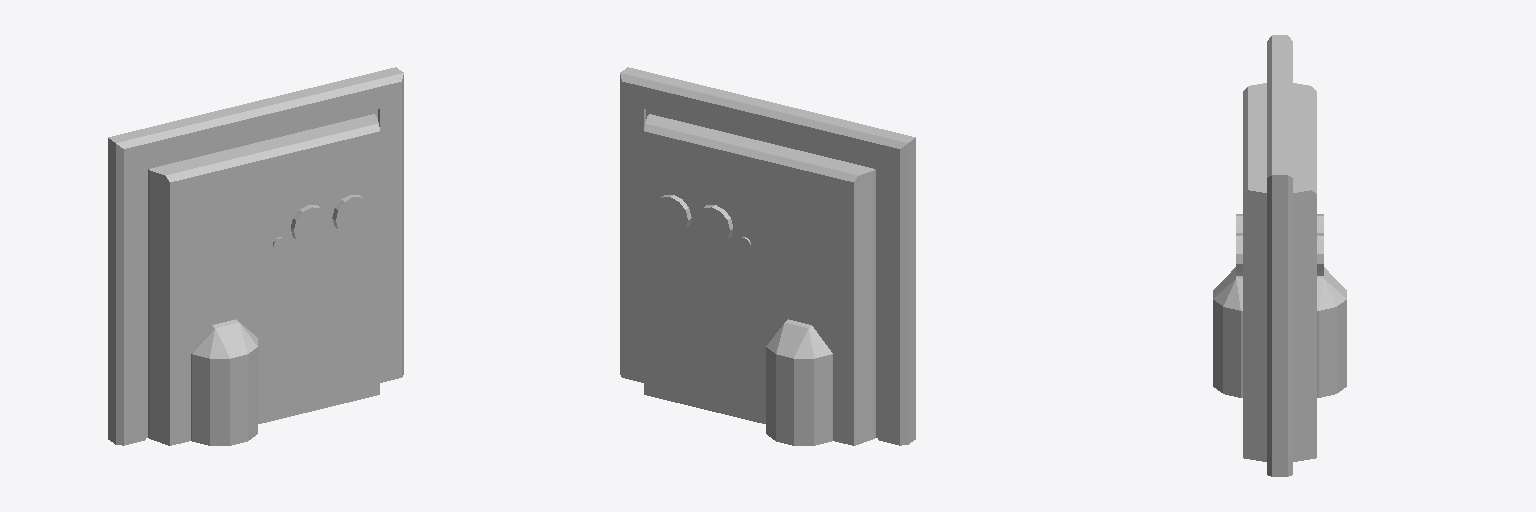
The model's file is Wall_Blue_Greeblies.obj.
3 views of the same model, side by side, from view 1: azimuth 30°, elevation 25°; view 2: azimuth 150°, elevation 25°; view 3: azimuth 270°, elevation 25° (orthographic).
Parts seen in each view (by area): view 1: Wall_Blue_Greeblies; view 2: Wall_Blue_Greeblies; view 3: Wall_Blue_Greeblies.
Boxes of the visible parts, x1,y1,x2,y2 form: Wall_Blue_Greeblies: [108, 67, 403, 445]; Wall_Blue_Greeblies: [620, 67, 915, 445]; Wall_Blue_Greeblies: [1213, 35, 1346, 476].
Bounding box in the file's own units: 4 × 4 × 1.61.